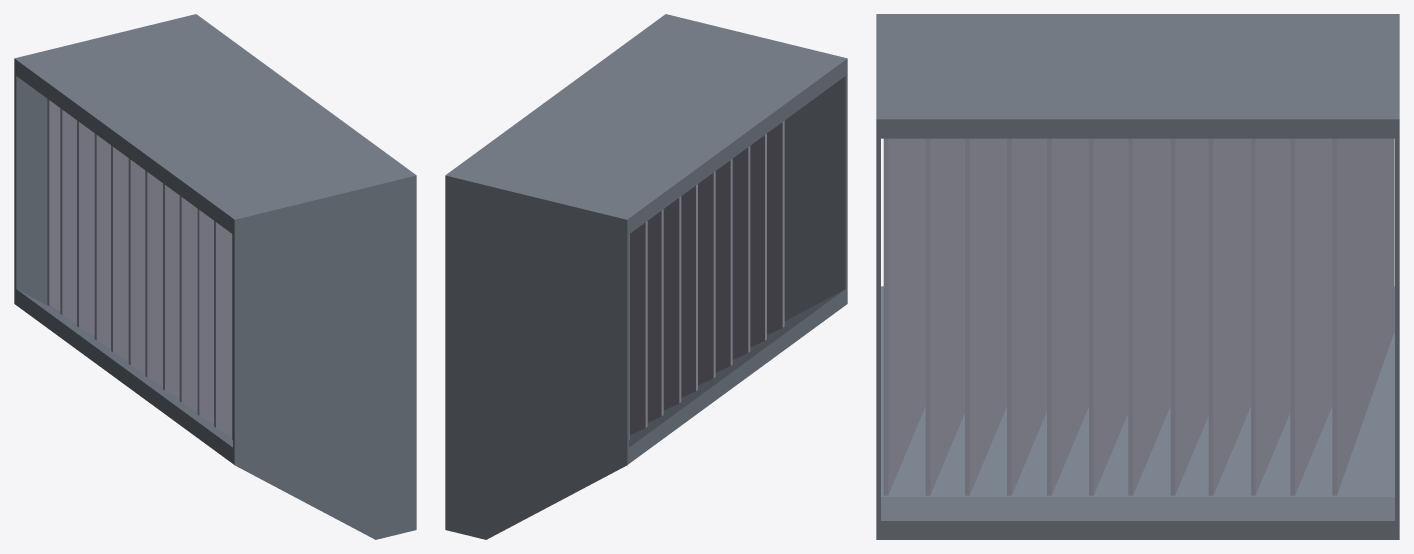
Rendered from other_002_cutter-machine.fbx.
3 views of the same model, side by side, from view 1: azimuth 30°, elevation 25°; view 2: azimuth 150°, elevation 25°; view 3: azimuth 270°, elevation 25° (orthographic). The views are drawn at different scales.
Parts seen in each view (by area): view 1: other.002.cutter-machine; view 2: other.002.cutter-machine; view 3: other.002.cutter-machine.
Boxes of the visible parts, x1,y1,x2,y2 form: other.002.cutter-machine: [14, 14, 416, 539]; other.002.cutter-machine: [445, 14, 847, 539]; other.002.cutter-machine: [876, 14, 1399, 539].
Bounding box in the file's own units: 0.1427 × 0.2656 × 0.2994.
